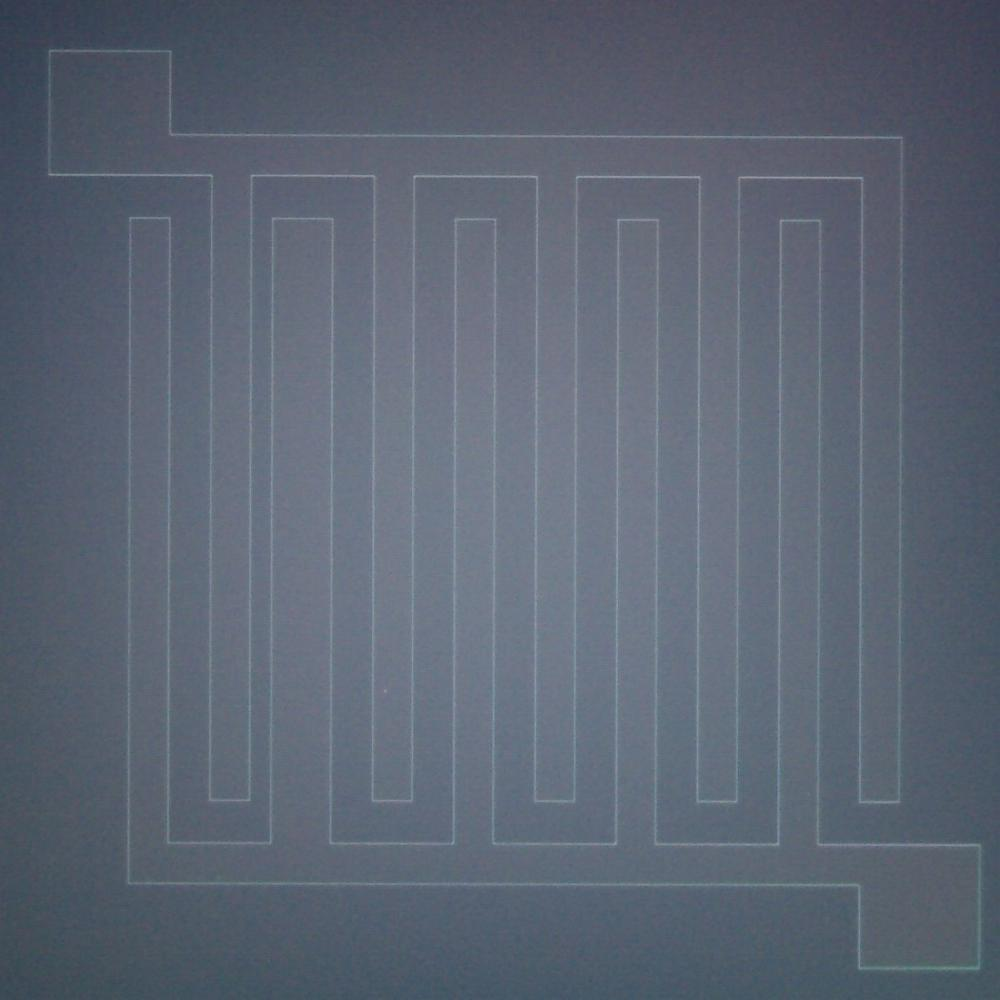fat circuit: (264, 206, 340, 868)
